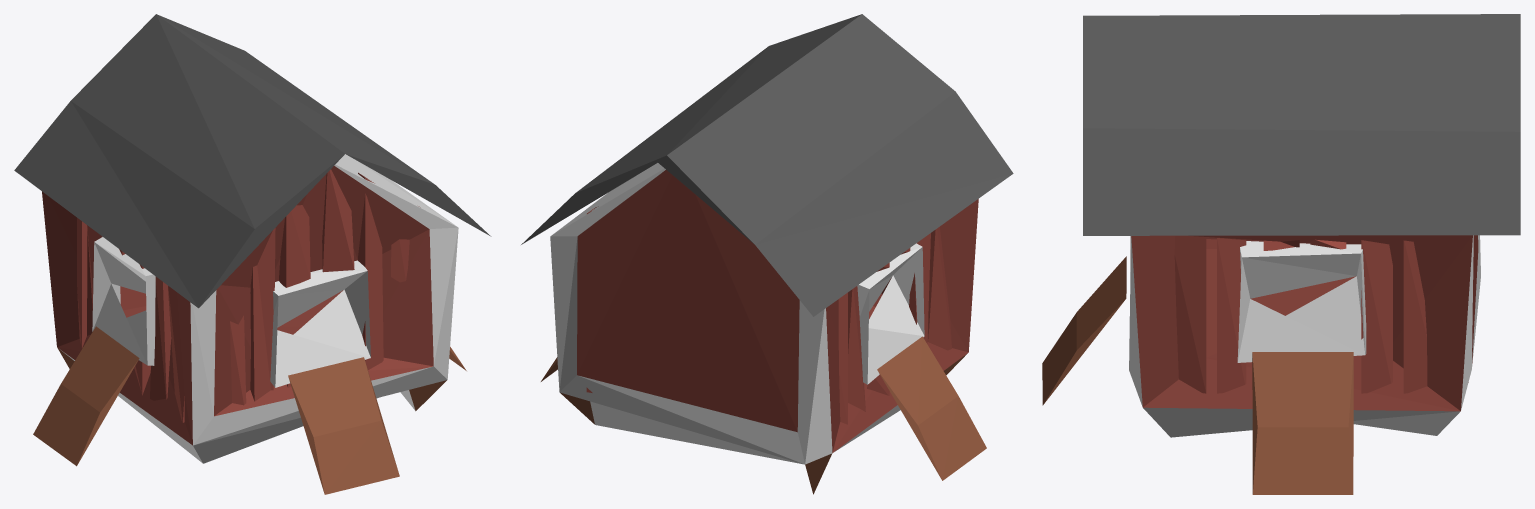
Rendered from ChickenCoop.lod1.glb.
3 renders of one model, left to right at view 1: azimuth 30°, elevation 25°; view 2: azimuth 150°, elevation 25°; view 3: azimuth 270°, elevation 25°, orthographic. The views are drawn at different scales.
Visible parts, largest first — view 1: ChickenCoop; view 2: ChickenCoop; view 3: ChickenCoop.
Boxes of the visible parts, left/top/right/bottom form: ChickenCoop: left=14, top=14, right=491, bottom=494; ChickenCoop: left=521, top=14, right=1013, bottom=494; ChickenCoop: left=1042, top=14, right=1520, bottom=494.
Bounding box in the file's own units: 2.28 × 1.83 × 2.09.
